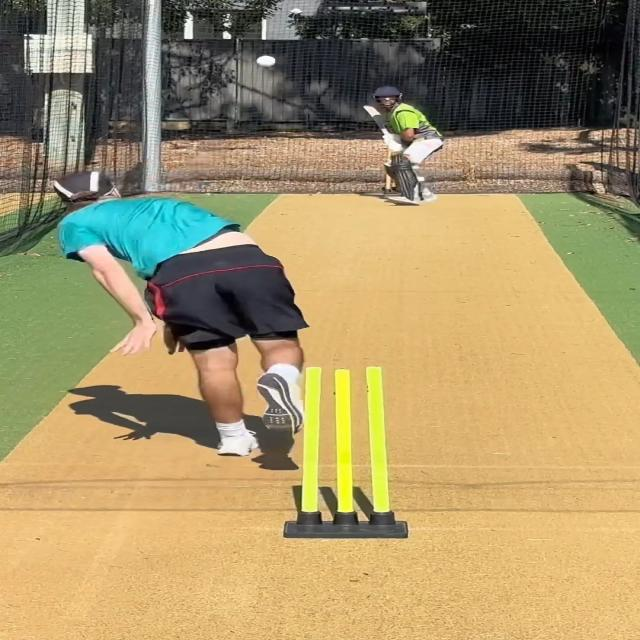ball: (256, 54, 278, 70)
stump: (282, 361, 410, 540)
